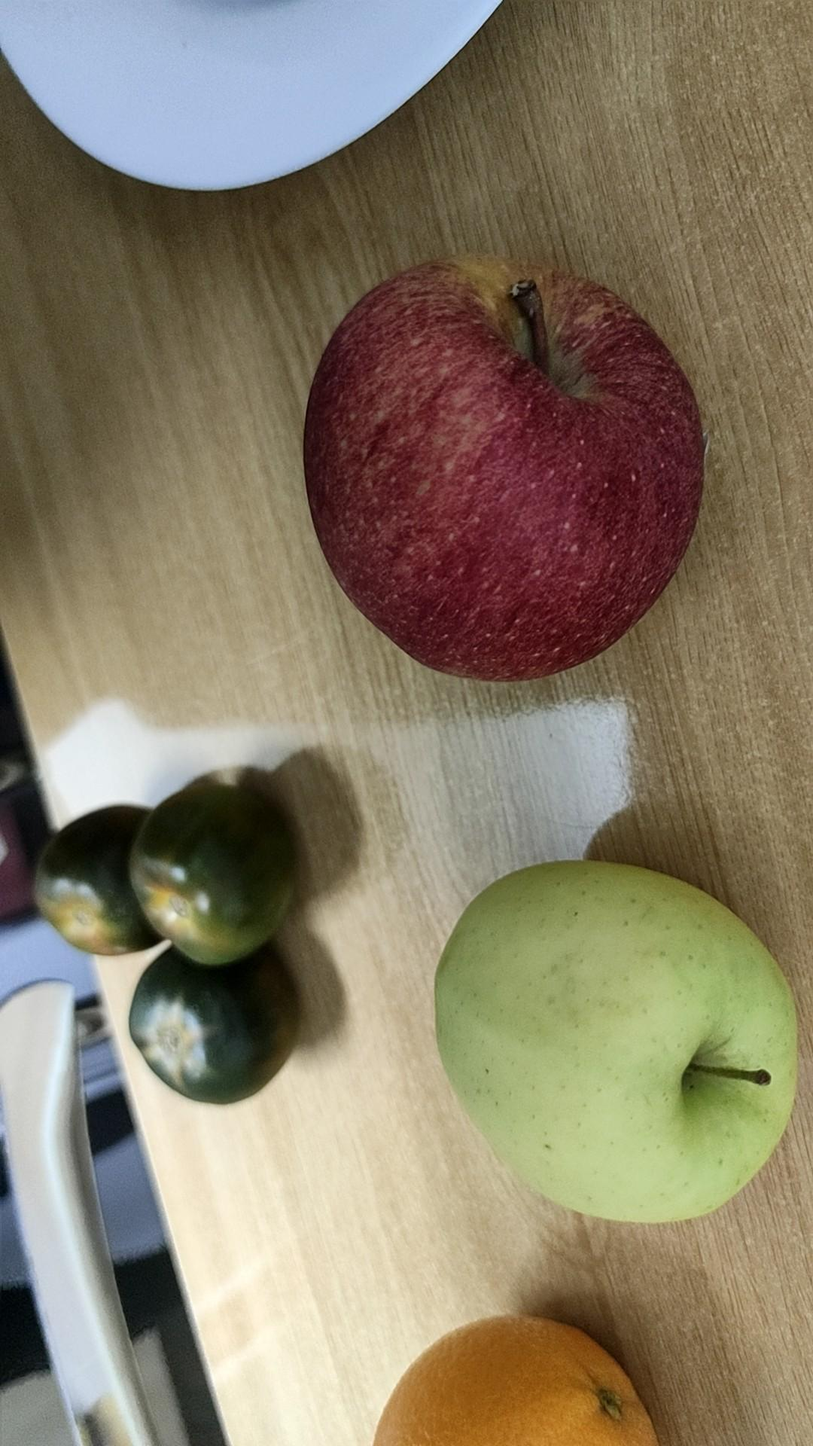fruit: (303, 256, 704, 682), (435, 861, 796, 1222), (35, 779, 298, 1103), (373, 1316, 658, 1445), (0, 1291, 38, 1365)
